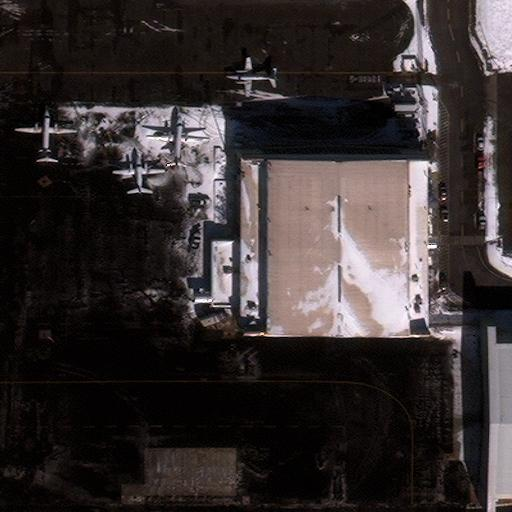Medium Civil Transport: (16, 110, 78, 164), (147, 118, 208, 167)
Small Civil Transport: (112, 153, 165, 196), (226, 57, 277, 97)
